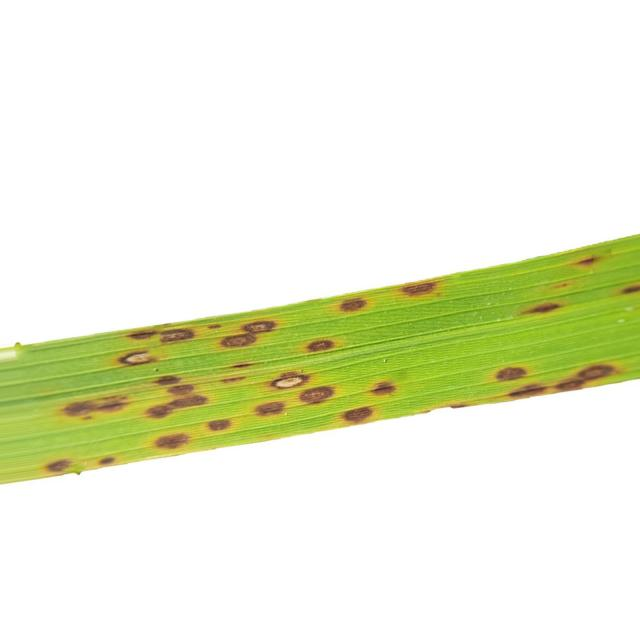Brown_Spot: (555, 364, 618, 391), (62, 396, 129, 416), (271, 371, 310, 389), (299, 386, 335, 404), (155, 432, 189, 449), (220, 332, 256, 348), (401, 281, 438, 296), (169, 395, 208, 409), (119, 350, 154, 365), (509, 384, 546, 398), (342, 406, 372, 422), (255, 401, 285, 416), (524, 302, 561, 314), (161, 329, 194, 342), (241, 320, 276, 332), (146, 404, 174, 418), (496, 368, 526, 381), (371, 381, 396, 396), (340, 298, 368, 311), (46, 459, 72, 472), (308, 339, 334, 352), (168, 384, 195, 396), (128, 330, 156, 340), (208, 419, 231, 431), (574, 255, 599, 266), (155, 375, 181, 385), (221, 376, 245, 384), (622, 285, 640, 294), (231, 362, 252, 369), (99, 456, 115, 465), (208, 324, 221, 329)
